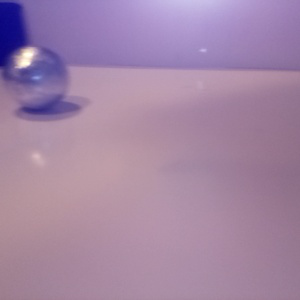alive_ball: (4, 45, 69, 111)
